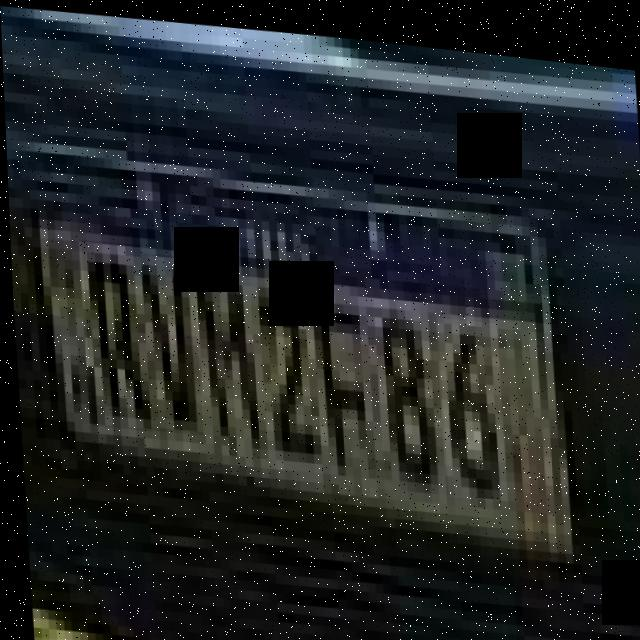6: (434, 306, 503, 491)
8: (372, 297, 437, 479)
F: (306, 283, 373, 472)
M: (191, 251, 258, 447)
R: (79, 237, 149, 429)
V: (139, 249, 199, 433)
